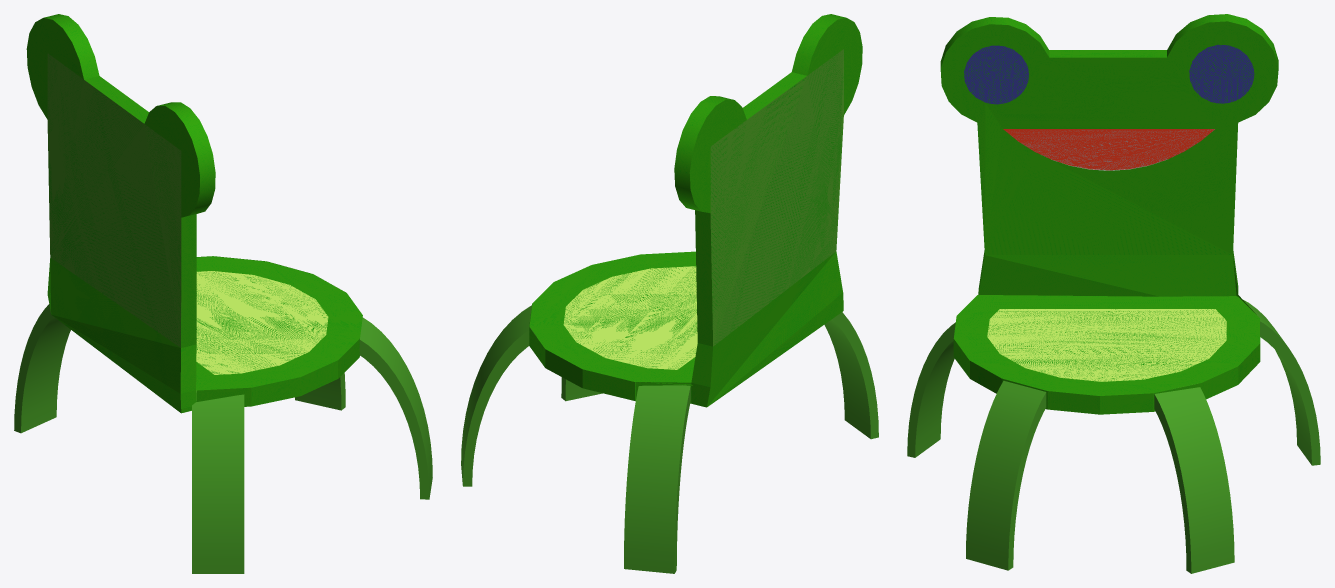
The model's file is froggy chair.dae.
3 renders of one model, left to right at view 1: azimuth 30°, elevation 25°; view 2: azimuth 150°, elevation 25°; view 3: azimuth 270°, elevation 25°, orthographic. The views are drawn at different scales.
Visible parts, largest first — view 1: SketchUp (×3), group_0, group_3, group_1 (×2), group_2; view 2: SketchUp (×3), group_3, group_0 (×2), group_2; view 3: SketchUp (×5), group_2 (×2), group_1, group_0, group_3 (×2).
Part boxes in pixels (x1,y1,x2,y2): SketchUp (×3): (26, 14, 362, 413); group_0: (192, 390, 244, 573); group_3: (14, 304, 70, 433); group_1 (×2): (359, 317, 432, 499); group_2: (295, 377, 341, 410); SketchUp (×3): (529, 14, 862, 407); group_3: (624, 385, 690, 573); group_0 (×2): (824, 312, 878, 439); group_2: (461, 305, 536, 486); SketchUp (×5): (940, 14, 1278, 414); group_2 (×2): (1154, 383, 1234, 573); group_1: (966, 381, 1046, 570); group_0: (907, 322, 955, 457); group_3 (×2): (1243, 300, 1320, 465).
Size of the model in its own units: 19.64 by 25.19 by 28.87.
